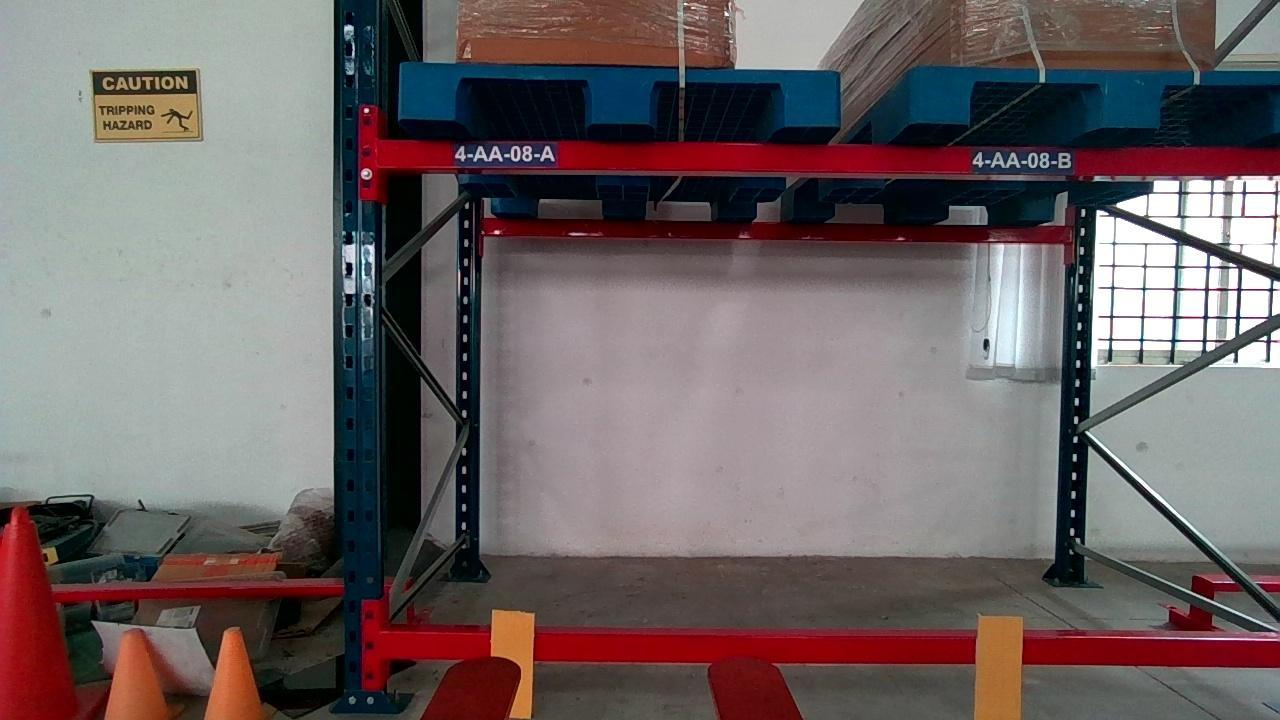h_rack: (379, 141, 1280, 175), (383, 631, 1279, 665)
orange_strip: (975, 615, 1024, 720), (486, 610, 532, 716)
small_pallet: (401, 62, 837, 126), (915, 67, 1276, 130)
